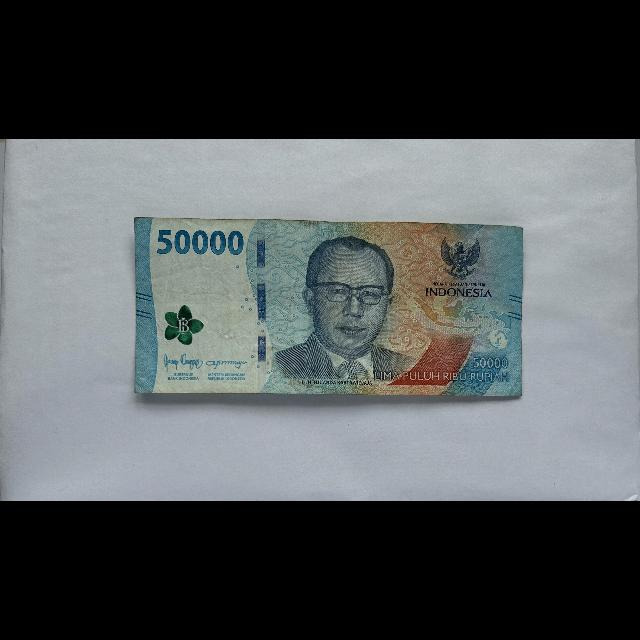Asli-50k: (133, 216, 525, 399)
Tinta-Asli-50k: (164, 304, 205, 346)
